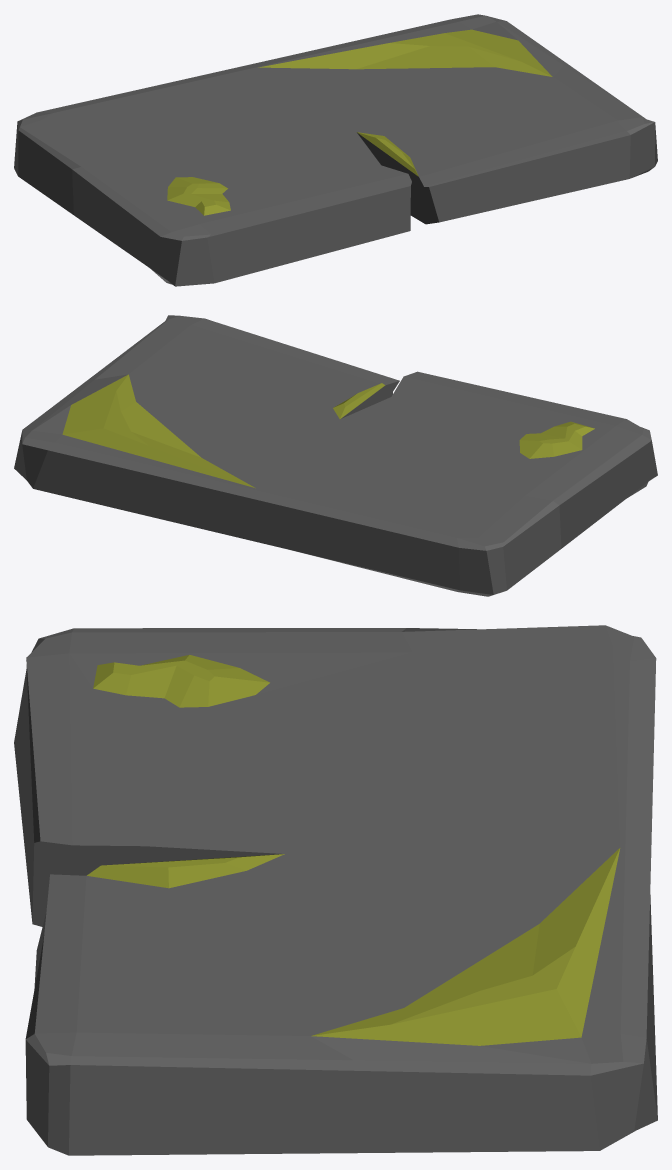
The model's file is tile_moss_type_2_LOD0.fbx.
3 renders of one model, top to bottom at view 1: azimuth 30°, elevation 25°; view 2: azimuth 150°, elevation 25°; view 3: azimuth 270°, elevation 25°, orthographic. The views are drawn at different scales.
Visible parts, largest first — view 1: tile_moss_type_2; view 2: tile_moss_type_2; view 3: tile_moss_type_2.
Part boxes in pixels (box(x1,y1,x2,y2)): tile_moss_type_2: box(14, 14, 657, 286); tile_moss_type_2: box(14, 315, 657, 596); tile_moss_type_2: box(14, 625, 657, 1155).
Bounding box in the file's own units: 202 × 22.15 × 123.
